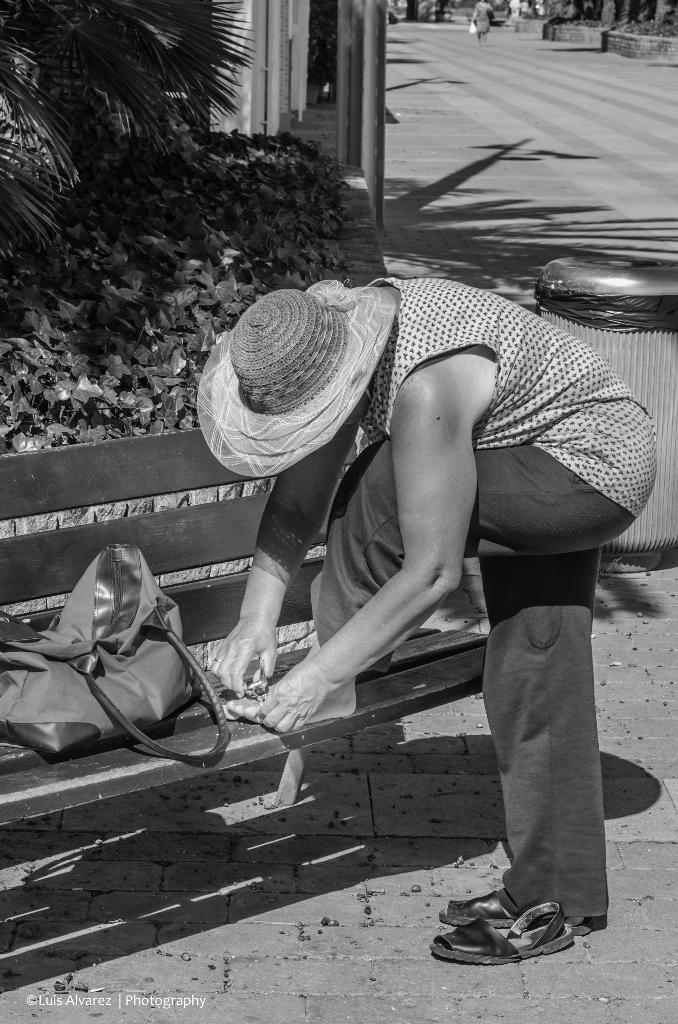Hat: (194, 273, 401, 480)
